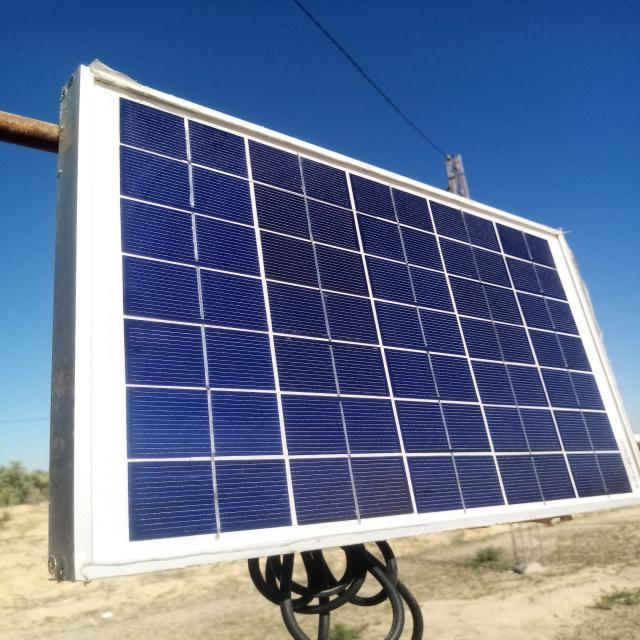no faulty: (68, 66, 640, 580)
